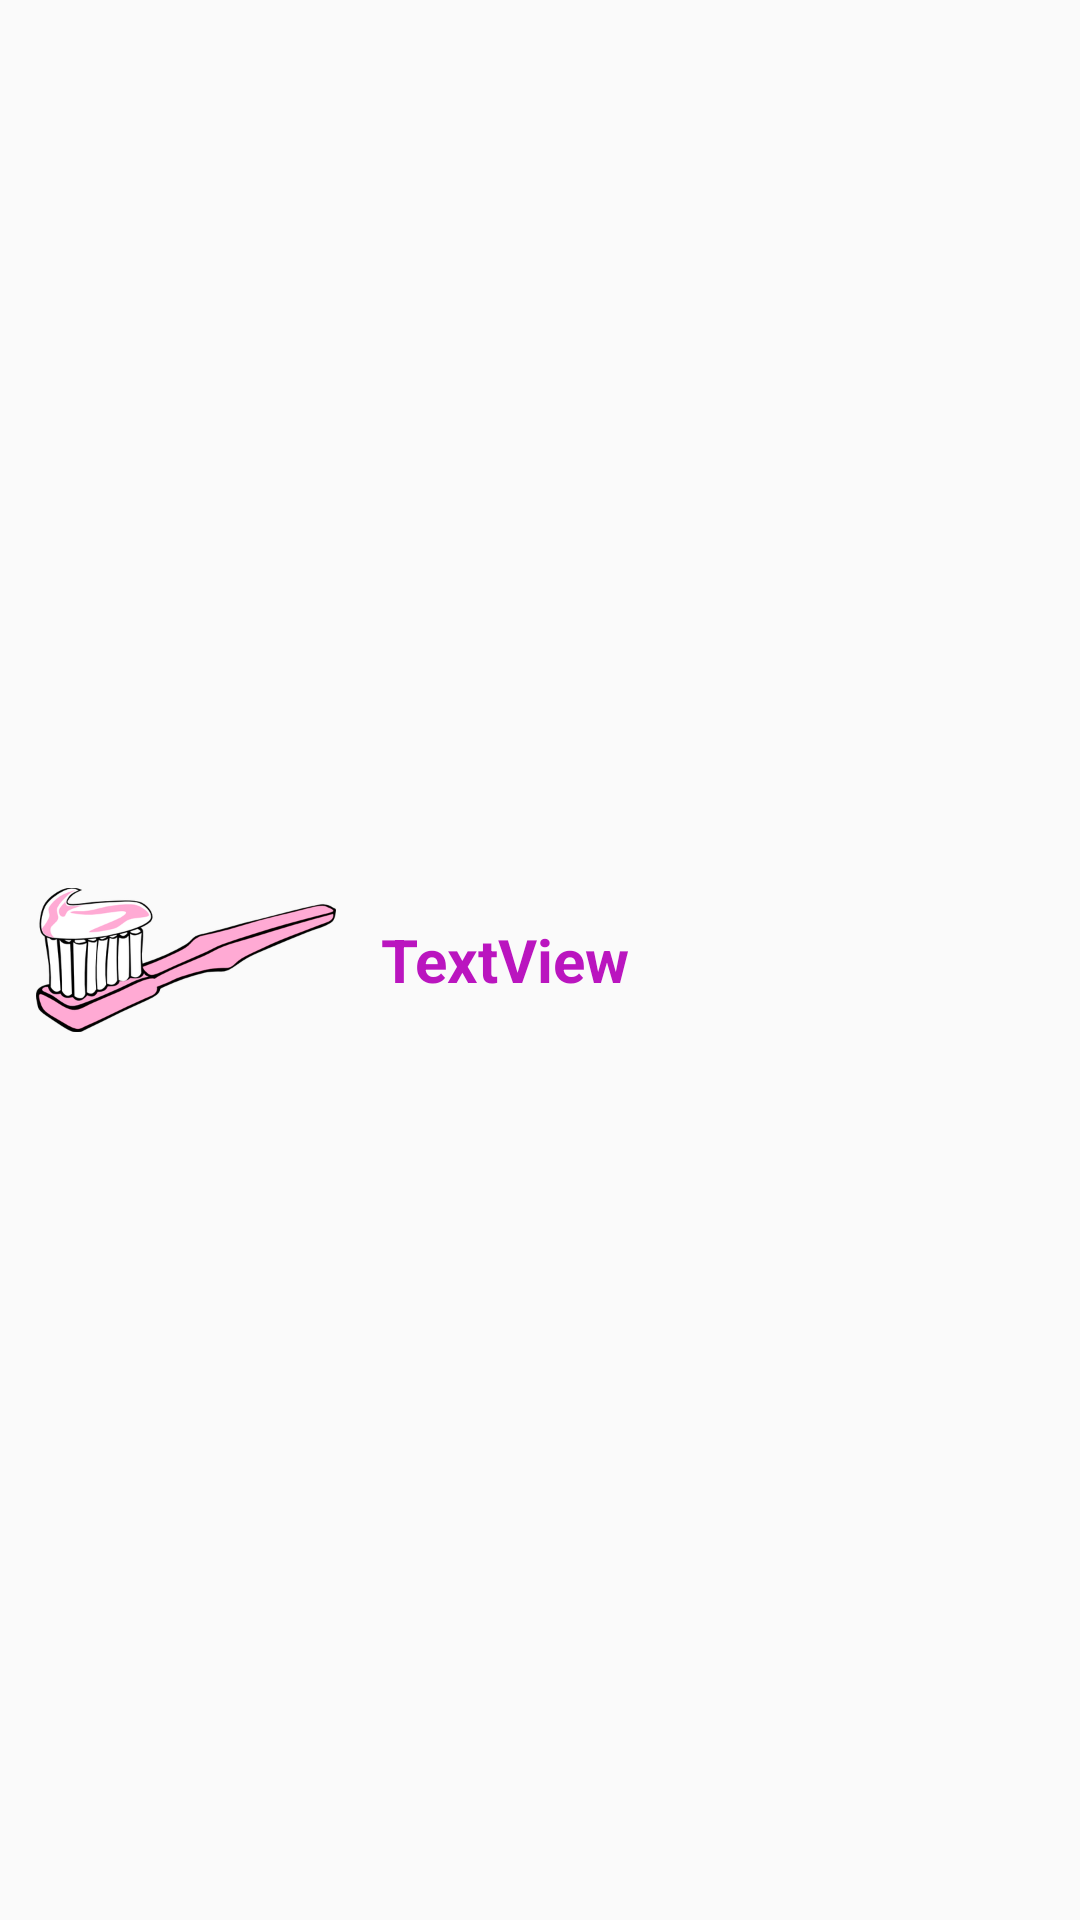

Where icons sit on this 1080 × 1920 app screen, as Rect(x1, y1, x2, y2):
toothbrush: Rect(36, 888, 336, 1032)
